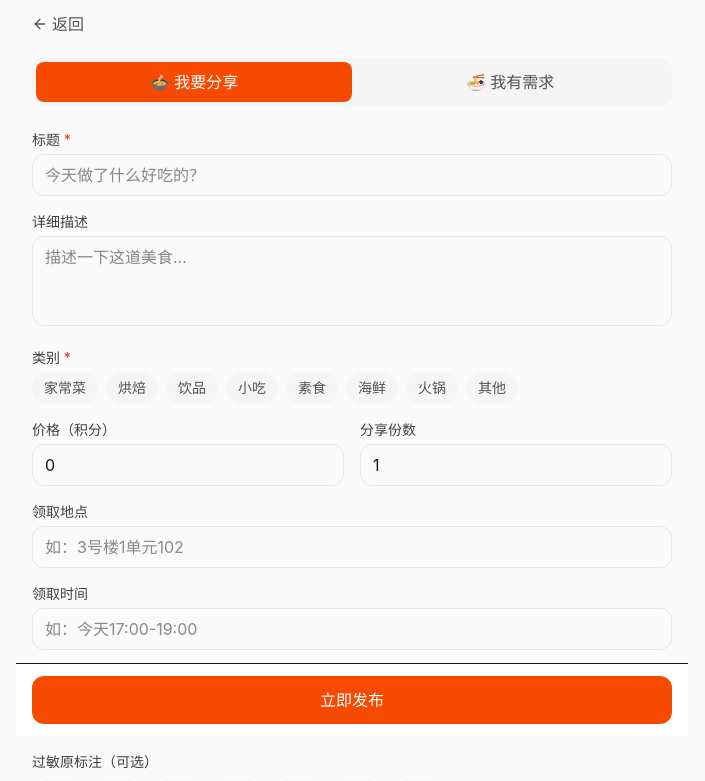
Test: SharedKitchen/Create 发布美食表单 › offer 类型领取地点为空时校验失败显示"请填写领取地点"
// 触发表单校验需要点击提交按钮
In the field with placeholder "今天做了什么好吃的？": (352, 175) [32,154,672,196], type "红烧肉"
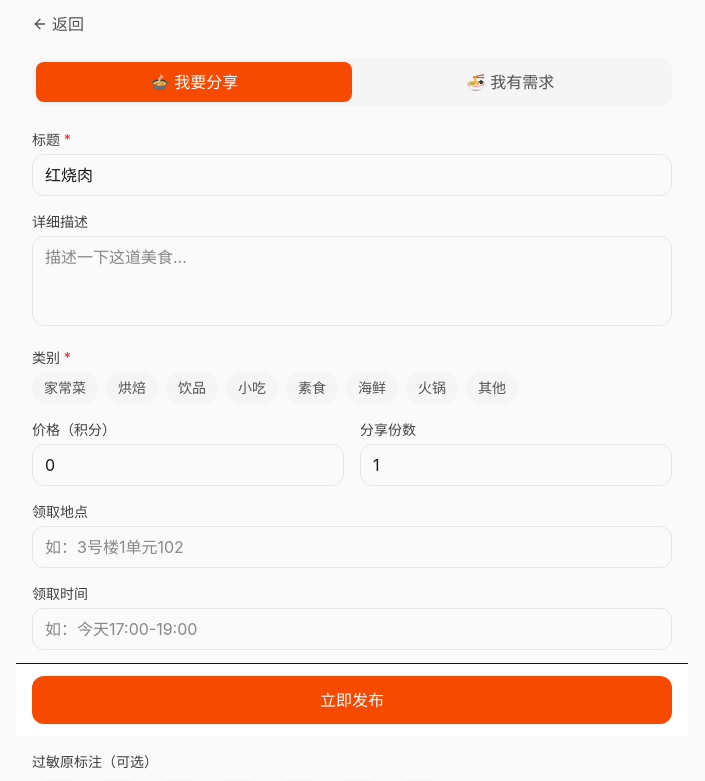
Click the button "家常菜": (65, 388) [32,372,98,404]
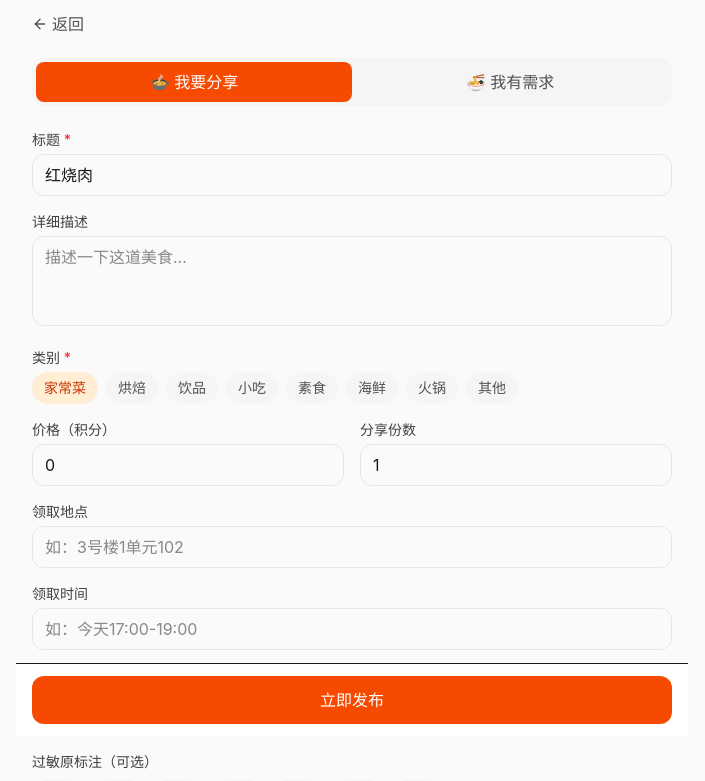
Click the button "立即发布": (352, 700) [32,676,672,724]
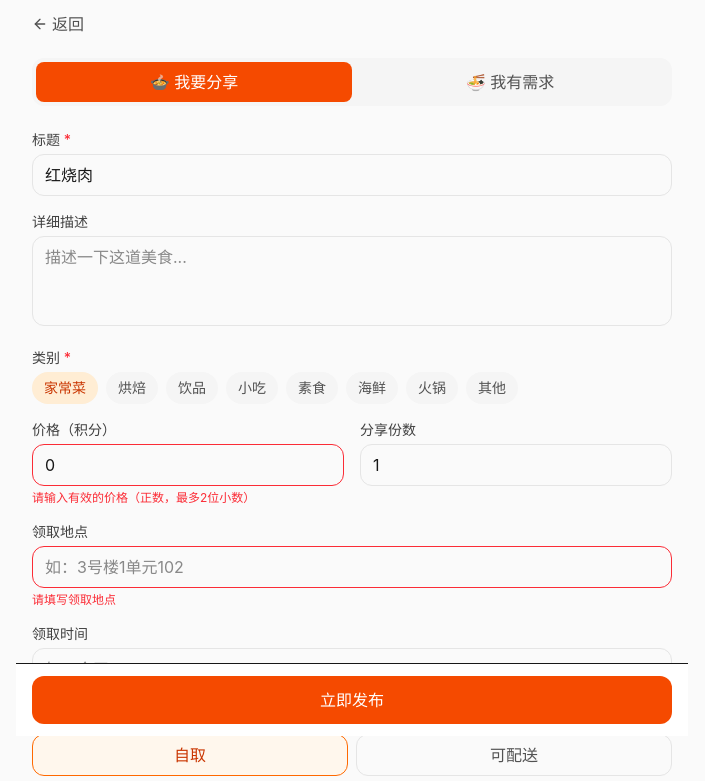
expect the text "请填写领取地点" is shown: met, box [32,592,116,607]
